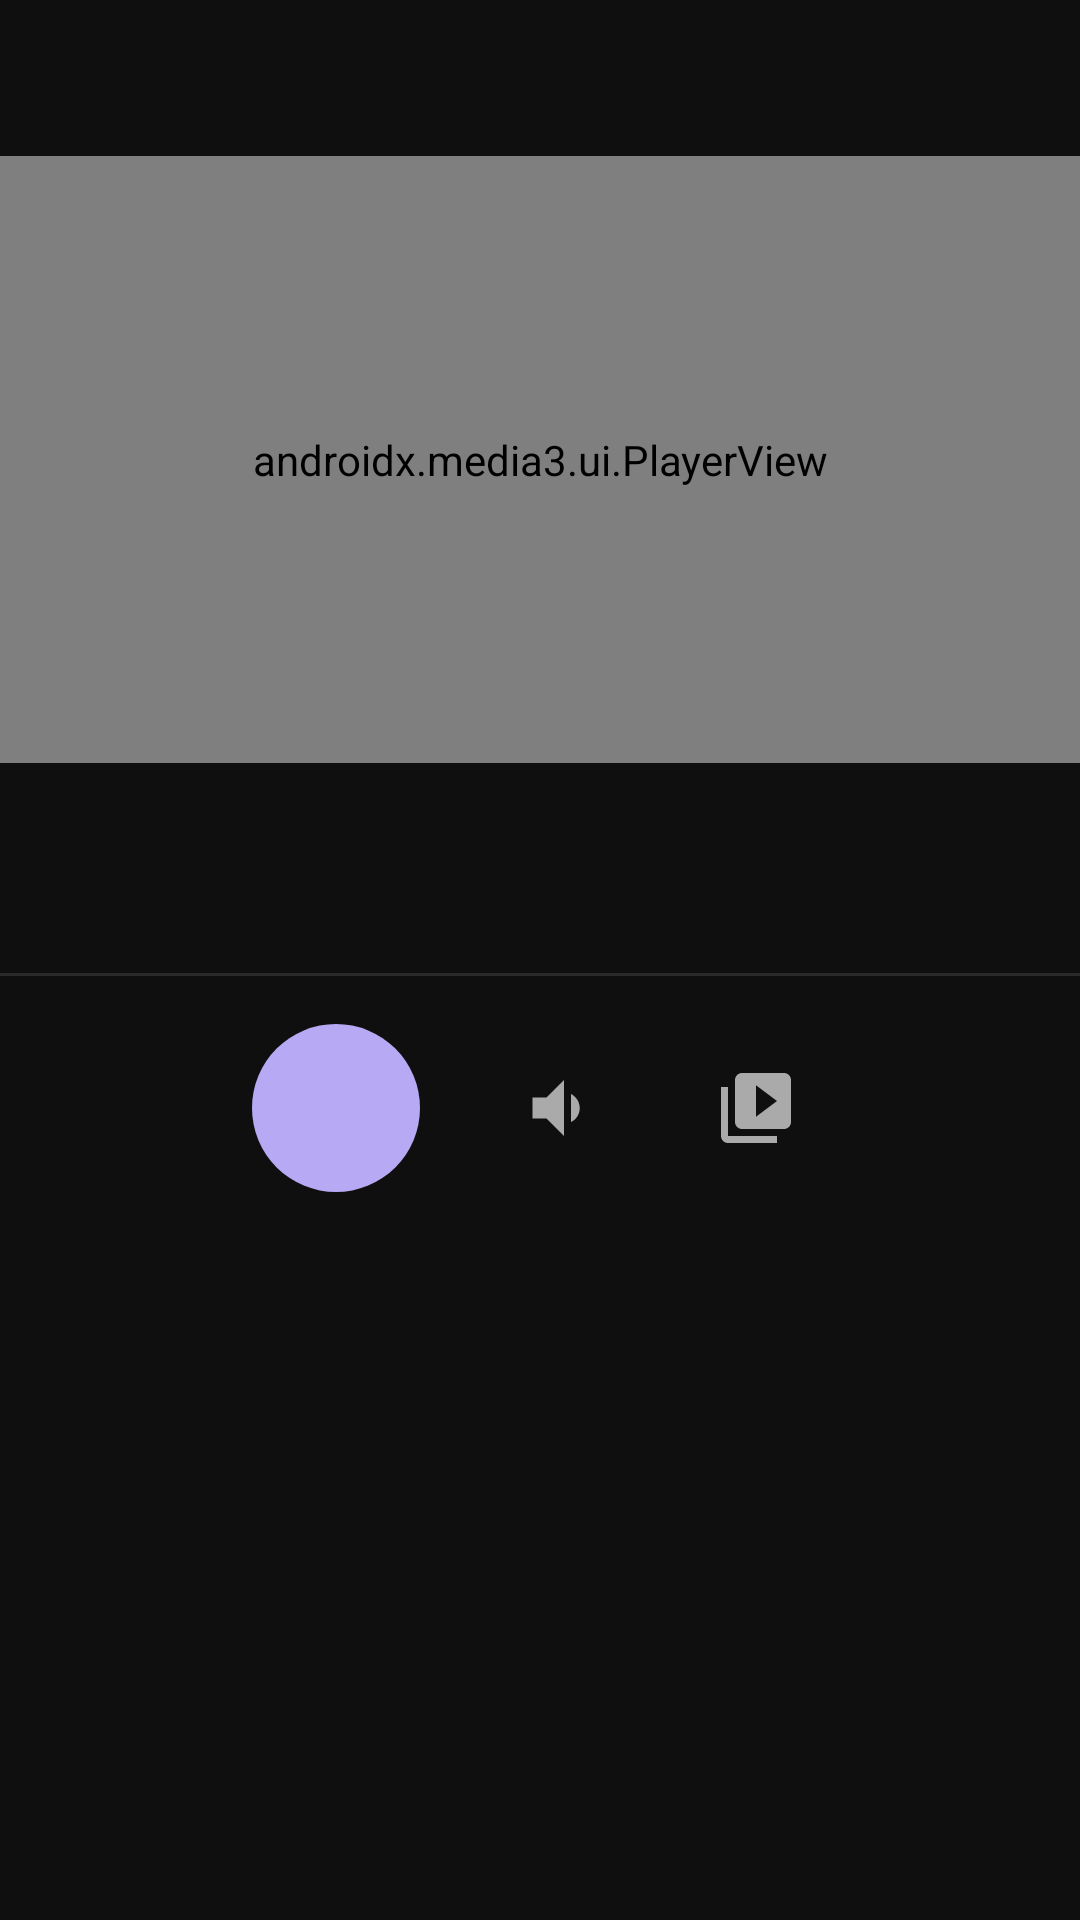

Locate icon controls on the screen. Image size 1080px×1920px, boxes as (left=x1, top=y1, right=x2, bottom=y2).
audio off: (left=532, top=1080, right=580, bottom=1136)
